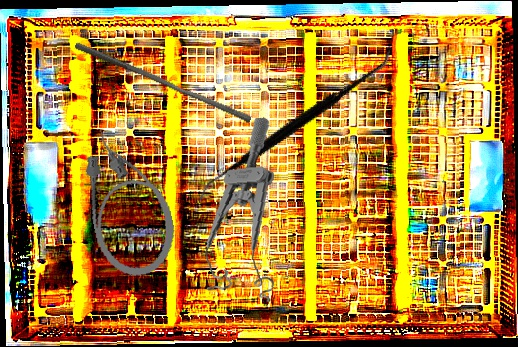Cannula: (74, 119, 183, 283)
Pusher: (71, 41, 255, 124)
Spatula Surgical: (195, 0, 394, 247)
Speculum: (189, 116, 289, 309)
